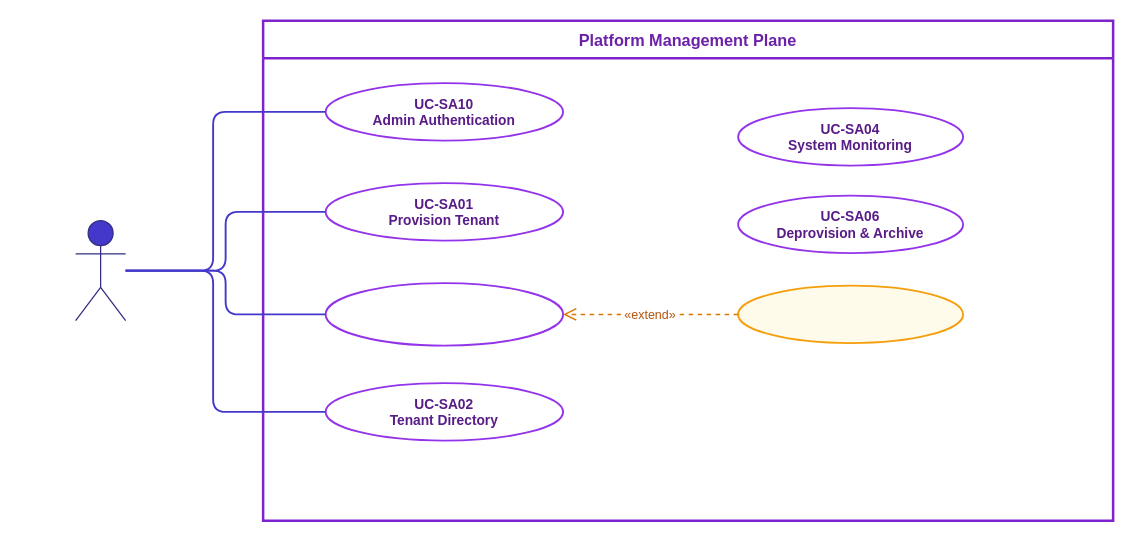
Image size: 1134x541. Some labels were removed from this diagram. The shapes that lost their labels are listed below. From the top down, each one's box as (x1, y1, x2, y2) in pixels, then its label:
(74, 219, 126, 321): Platform Super Admin
(324, 282, 564, 346): UC-SA03 Lifecycle Control (Suspend / Resume)
(737, 284, 964, 344): UC-SA08 FinOps & Hibernation
